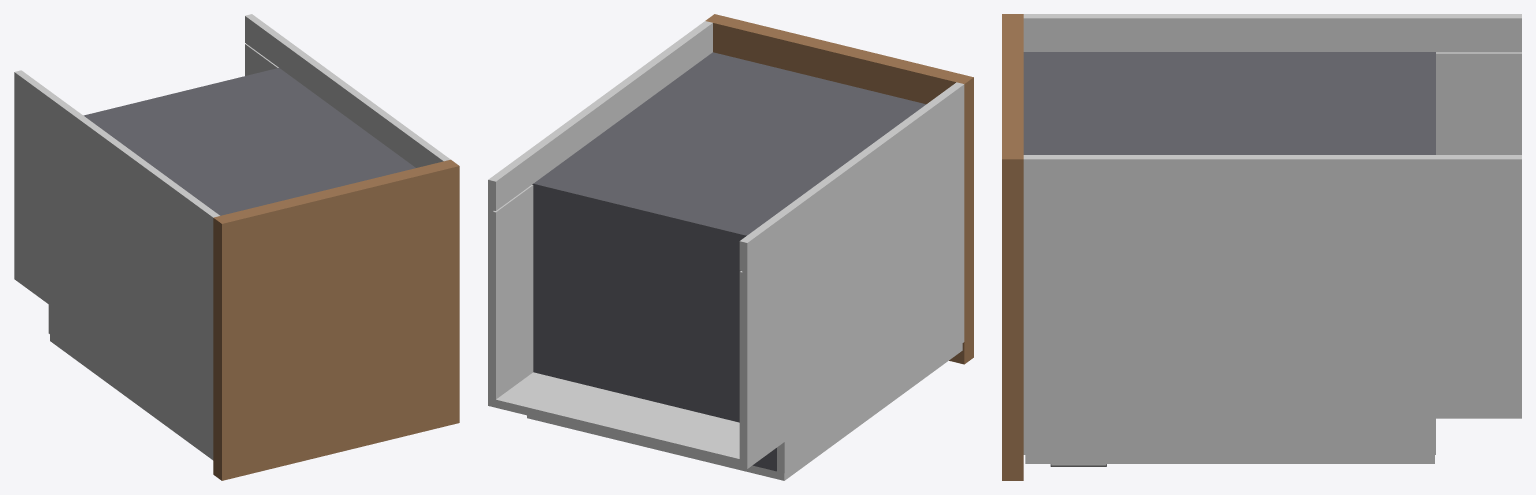
Rendered from Kitchen Cabinets_60CM Highline Cabinet.obj.
The picture shows the model from 3 angles, left to right: view 1: azimuth 30°, elevation 25°; view 2: azimuth 150°, elevation 25°; view 3: azimuth 270°, elevation 25°; orthographic projection. The views are drawn at different scales.
Parts seen in each view (by area): view 1: Worktop_(2), LH_Panel_(2), BackPanel_(2), RH_Panel_(2), Door_(2); view 2: LH_Panel_(2), Bottom_Shelf_(2), BackPanel_(2), RH_Panel_(2), Worktop_(2), Plinth_(2), Door_(2); view 3: RH_Panel_(2), BackPanel_(2), LH_Panel_(2), Worktop_(2), Door_(2), Plinth_(2).
Part boxes in pixels (x1=…): Worktop_(2): x1=213, y1=159, x2=459, y2=480; LH_Panel_(2): x1=14, y1=70, x2=219, y2=453; BackPanel_(2): x1=83, y1=68, x2=415, y2=215; RH_Panel_(2): x1=245, y1=14, x2=450, y2=167; Door_(2): x1=50, y1=334, x2=213, y2=460; LH_Panel_(2): x1=739, y1=82, x2=964, y2=473; Bottom_Shelf_(2): x1=533, y1=185, x2=776, y2=471; BackPanel_(2): x1=532, y1=52, x2=925, y2=236; RH_Panel_(2): x1=488, y1=21, x2=712, y2=399; Worktop_(2): x1=705, y1=14, x2=973, y2=364; Plinth_(2): x1=488, y1=372, x2=784, y2=468; Door_(2): x1=527, y1=343, x2=962, y2=480; RH_Panel_(2): x1=1023, y1=155, x2=1521, y2=454; BackPanel_(2): x1=1023, y1=52, x2=1435, y2=154; LH_Panel_(2): x1=1023, y1=14, x2=1521, y2=154; Worktop_(2): x1=1002, y1=14, x2=1023, y2=480; Door_(2): x1=1025, y1=455, x2=1434, y2=463; Plinth_(2): x1=1436, y1=409, x2=1521, y2=418.
Size of the model in its own units: 0.6 by 0.62 by 0.908.
